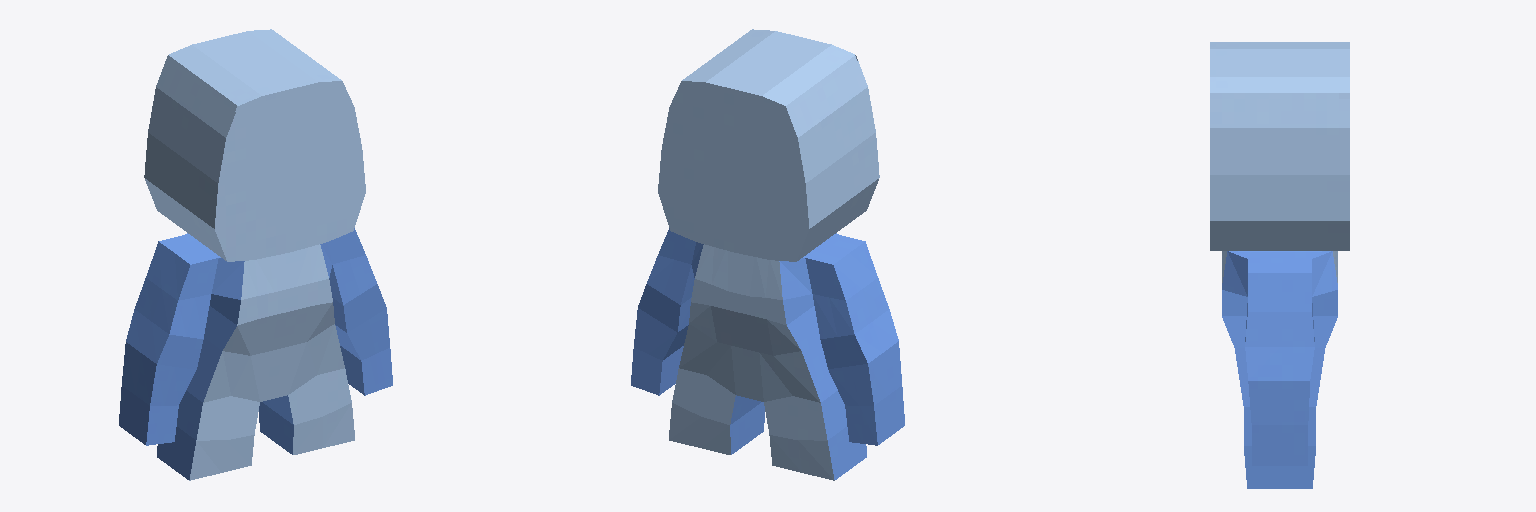
3 renders of one model, left to right at view 1: azimuth 30°, elevation 25°; view 2: azimuth 150°, elevation 25°; view 3: azimuth 270°, elevation 25°, orthographic.
Parts seen in each view (by area): view 1: Cube; view 2: Cube; view 3: Cube.
Boxes of the visible parts, box(x1,y1,x2,y2) form: Cube: box(119, 29, 392, 480); Cube: box(631, 29, 904, 480); Cube: box(1210, 42, 1349, 488).
Size of the model in its own units: 4.4 by 6.55 by 2.17.
1 materials, 1 textured.